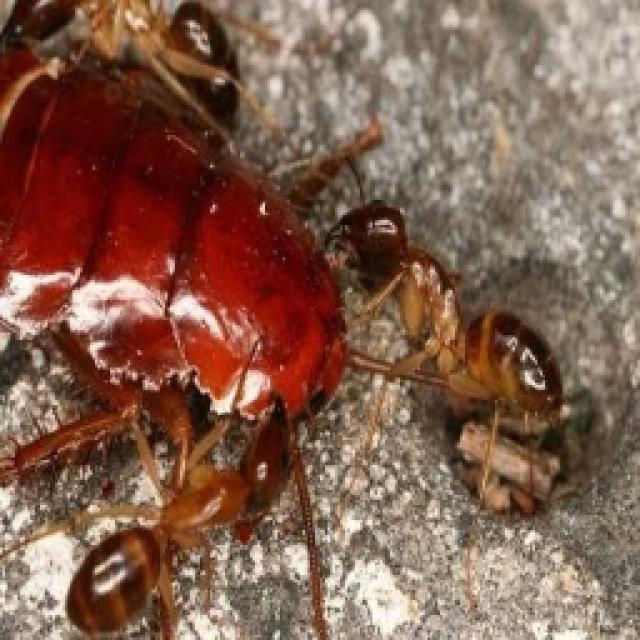cockroach: (0, 9, 426, 531)
